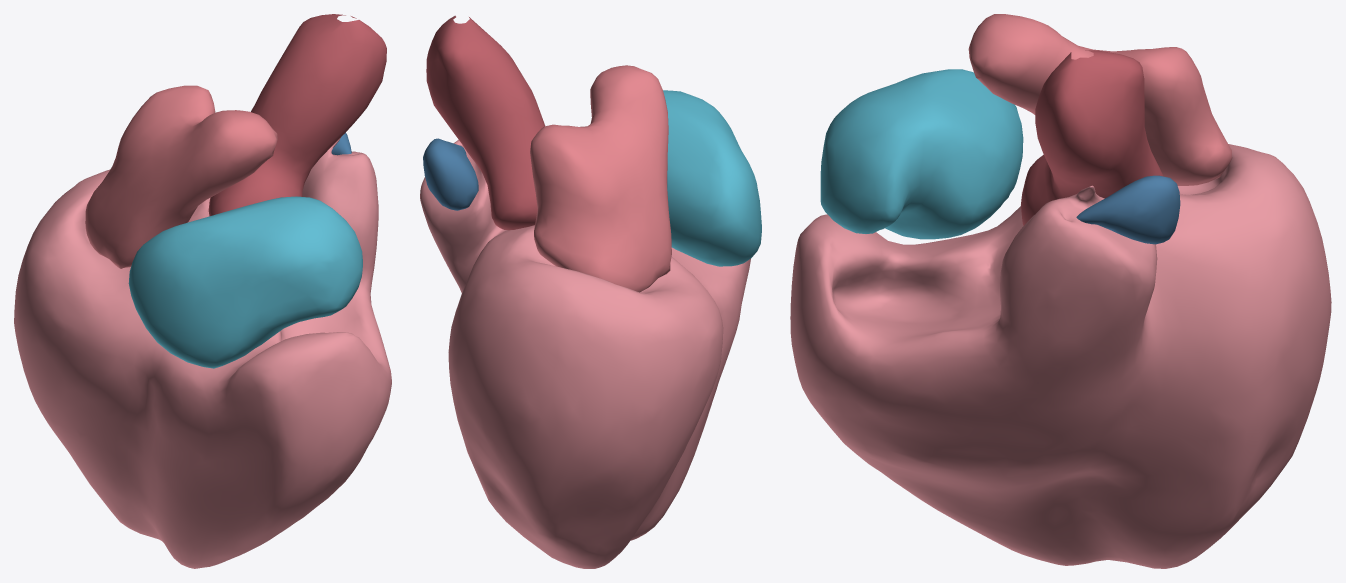
File: frame_24.glb
The picture shows the model from 3 angles, left to right: view 1: azimuth 30°, elevation 25°; view 2: azimuth 150°, elevation 25°; view 3: azimuth 270°, elevation 25°; orthographic projection. The views are drawn at different scales.
Parts seen in each view (by area): view 1: Renderer Node; view 2: Renderer Node; view 3: Renderer Node.
Part boxes in pixels (x1,y1,x2,y2): Renderer Node: (14, 14, 391, 568); Renderer Node: (420, 15, 761, 568); Renderer Node: (790, 14, 1331, 568).
Bounding box in the file's own units: 106 × 162 × 131.
